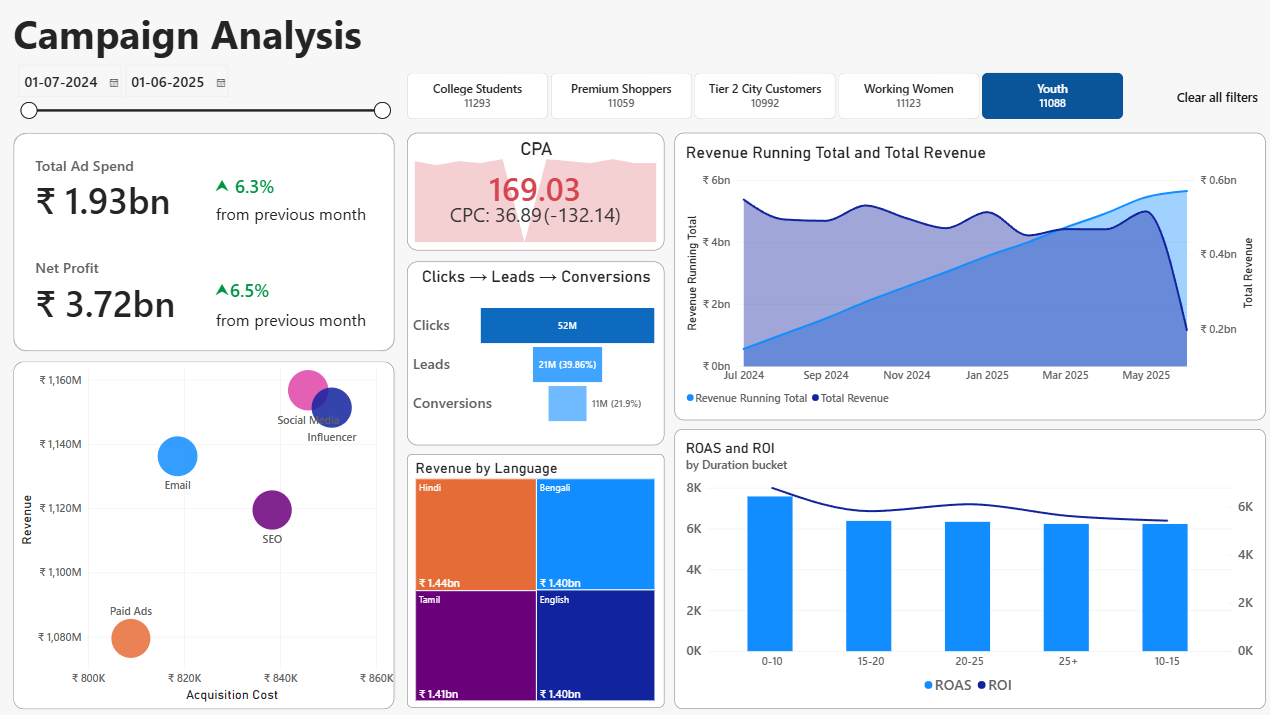

What the dashboard file says about the page in this screenshot:
{"tool":"powerbi","page":{"name":"Campaign Analysis","canvas":[1920,1080],"ordinal":1},"visuals":[{"type":"shape","box":[38.5,206.1,568.1,325.5],"z":0},{"type":"cardVisual","fields":{"Data":["nykaa_campaign_data.Total prev month Ad Spend card"]},"box":[321.6,242.7,152.1,86.7],"z":0,"group":"g1"},{"type":"textbox","box":[339.6,311.4,245.8,44.2],"z":1000,"group":"g1"},{"type":"cardVisual","fields":{"Data":["Sum(nykaa_campaign_data.Ad Spend)"]},"box":[55.2,206.1,310.1,161.8],"z":2000},{"type":"cardVisual","fields":{"Data":["nykaa_campaign_data.Total prev month profit card"]},"box":[321.6,396.8,152.1,86.7],"z":2000,"group":"g1"},{"type":"cardVisual","fields":{"Data":["Sum(nykaa_campaign_data.Profit)"]},"box":[55.2,359.4,342.8,161.8],"z":3000},{"type":"textbox","box":[339.3,469.3,267,52],"z":3000,"group":"g1"},{"type":"kpi","title":"CPA","fields":{"Goal":["nykaa_campaign_data.Cost Per Click"],"Indicator":["Avg(nykaa_campaign_data.CPA)"],"TrendLine":["nykaa_campaign_data.Month-Year.Variation.Date Hierarchy.Month"]},"box":[625.2,206.6,383.2,175.2],"z":4000},{"type":"group","id":"g1","title":"Group 1","box":[321.6,242.7,284.7,278.6],"z":5000},{"type":"scatterChart","fields":{"Series":["nykaa_campaign_data.Campaign_Type"],"Size":["Sum(nykaa_campaign_data.Conversions)"],"X":["Sum(nykaa_campaign_data.Acquisition_Cost)"],"Y":["Sum(nykaa_campaign_data.Revenue)"]},"box":[39.1,547.1,567.6,517.3],"z":6000},{"type":"funnel","title":"Clicks → Leads → Conversions","fields":{"Y":["Sum(nykaa_campaign_data.Clicks)","Sum(nykaa_campaign_data.Leads)","Sum(nykaa_campaign_data.Conversions)"]},"box":[625.2,398.2,383.3,273.5],"z":7000},{"type":"treemap","title":"Revenue by Language","fields":{"Group":["nykaa_campaign_data.Language"],"Values":["Sum(nykaa_campaign_data.Revenue)"]},"box":[625.2,684.8,383.3,377.7],"z":8000},{"type":"lineStackedColumnComboChart","fields":{"Category":["nykaa_campaign_data.Duration bucket"],"Y":["Sum(nykaa_campaign_data.ROAS Column)"],"Y2":["Sum(nykaa_campaign_data.ROI)"]},"box":[1023.5,647.6,880.2,416.8],"z":9000},{"type":"areaChart","title":"Revenue Running Total and Total Revenue","fields":{"Category":["nykaa_campaign_data.Month-Year.Variation.Date Hierarchy.Year","nykaa_campaign_data.Month-Year.Variation.Date Hierarchy.Month"],"Y":["nykaa_campaign_data.Revenue Running Total"],"Y2":["Sum(nykaa_campaign_data.Revenue)"]},"box":[1023.5,206.6,880.2,428],"z":10000},{"type":"advancedSlicerVisual","fields":{"Values":["nykaa_campaign_data.Customer_Segment"]},"box":[625,117,1068,69],"z":12000},{"type":"slicer","fields":{"Values":["nykaa_campaign_data.Month-Year"]},"box":[39.1,100.5,565.7,106.1],"z":13000},{"type":"actionButton","box":[1693.4,126.5,210.3,55.8],"z":14000},{"type":"textbox","box":[39.1,18.6,547.1,134],"z":15000}]}

Visuals, with their boxes in screenshot pixels (x1, y1, x2, y2), scaled from the page's 1920x1080 canvas onto the 1270x715 screenshot:
shape: select_region(25, 136, 401, 352)
cardVisual - nykaa_campaign_data.Total prev month Ad Spend card: select_region(213, 161, 313, 218)
textbox: select_region(225, 206, 387, 235)
cardVisual - Sum(nykaa_campaign_data.Ad Spend): select_region(37, 136, 242, 244)
cardVisual - nykaa_campaign_data.Total prev month profit card: select_region(213, 263, 313, 320)
cardVisual - Sum(nykaa_campaign_data.Profit): select_region(37, 238, 263, 345)
textbox: select_region(224, 311, 401, 345)
"CPA" kpi: select_region(414, 137, 667, 253)
"Group 1" group: select_region(213, 161, 401, 345)
scatterChart - nykaa_campaign_data.Campaign_Type x Sum(nykaa_campaign_data.Conversions): select_region(26, 362, 401, 705)
"Clicks → Leads → Conversions" funnel: select_region(414, 264, 667, 445)
"Revenue by Language" treemap: select_region(414, 453, 667, 703)
lineStackedColumnComboChart - nykaa_campaign_data.Duration bucket x Sum(nykaa_campaign_data.ROAS Column): select_region(677, 429, 1259, 705)
"Revenue Running Total and Total Revenue" areaChart: select_region(677, 137, 1259, 420)
advancedSlicerVisual - nykaa_campaign_data.Customer_Segment: select_region(413, 77, 1120, 123)
slicer - nykaa_campaign_data.Month-Year: select_region(26, 67, 400, 137)
actionButton: select_region(1120, 84, 1259, 121)
textbox: select_region(26, 12, 388, 101)
